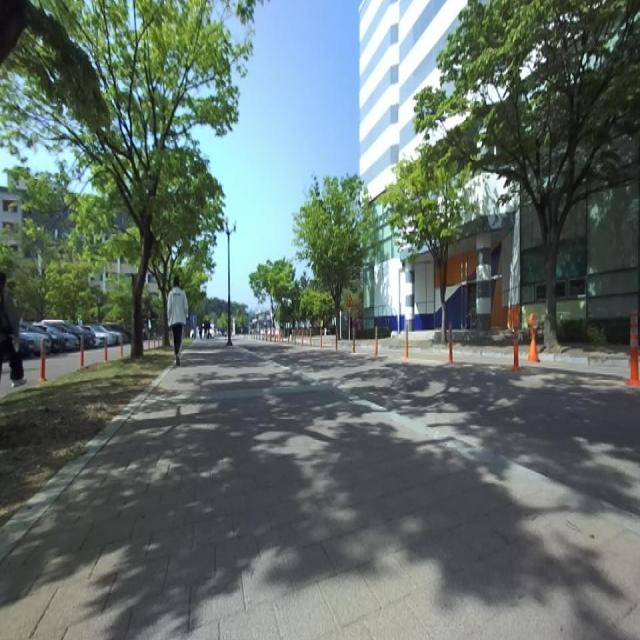sidewalk: (0, 345, 640, 638)
